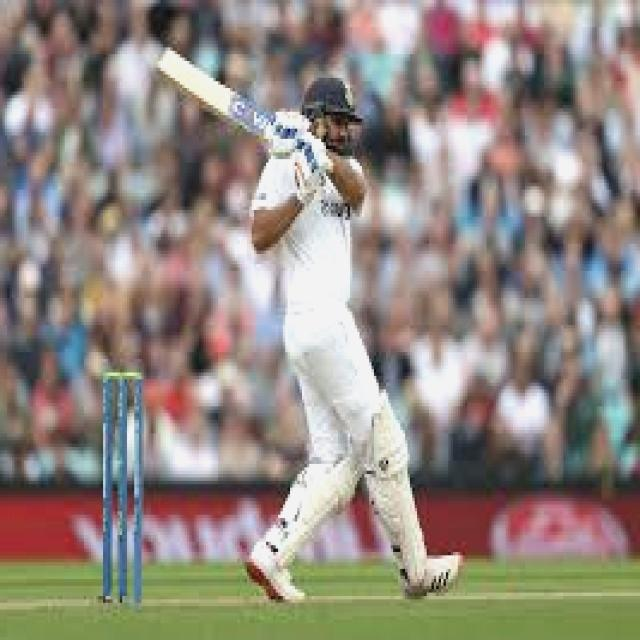toe: (149, 46, 185, 78)
